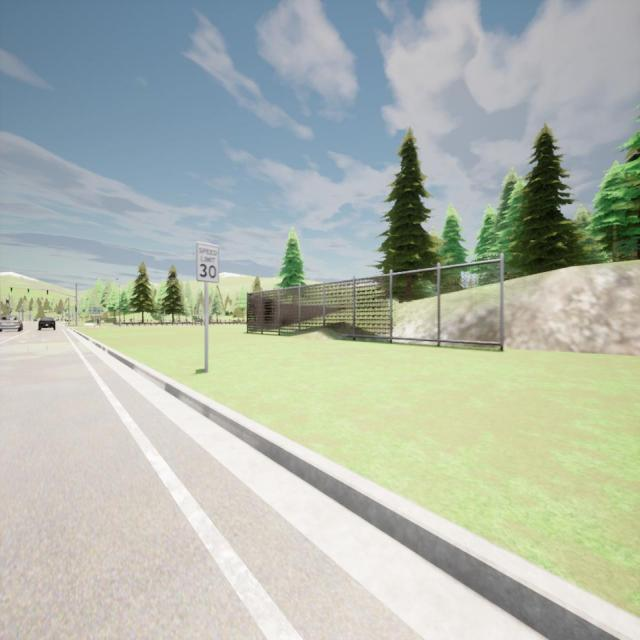Traffic_Signs: (197, 241, 220, 282), (88, 307, 101, 314)
Vehicle: (0, 315, 23, 331), (38, 317, 56, 331)
traffic_light: (75, 308, 77, 312), (11, 288, 12, 292), (28, 288, 29, 292), (47, 290, 48, 294)
